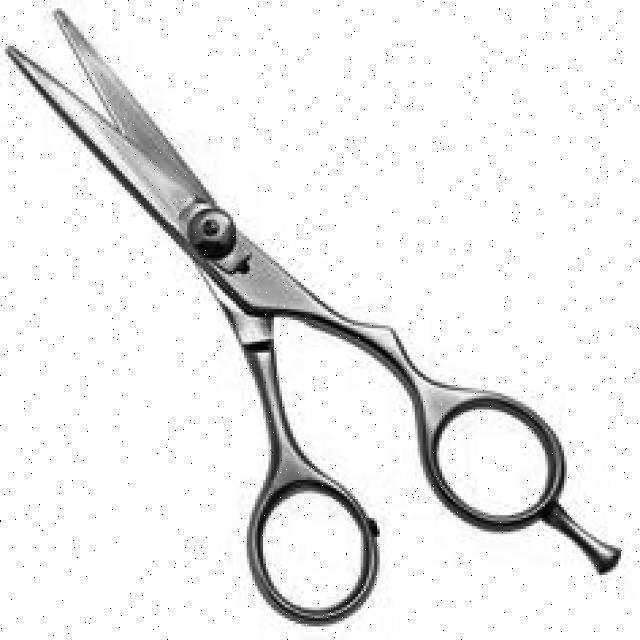scissors: (2, 4, 624, 632)
